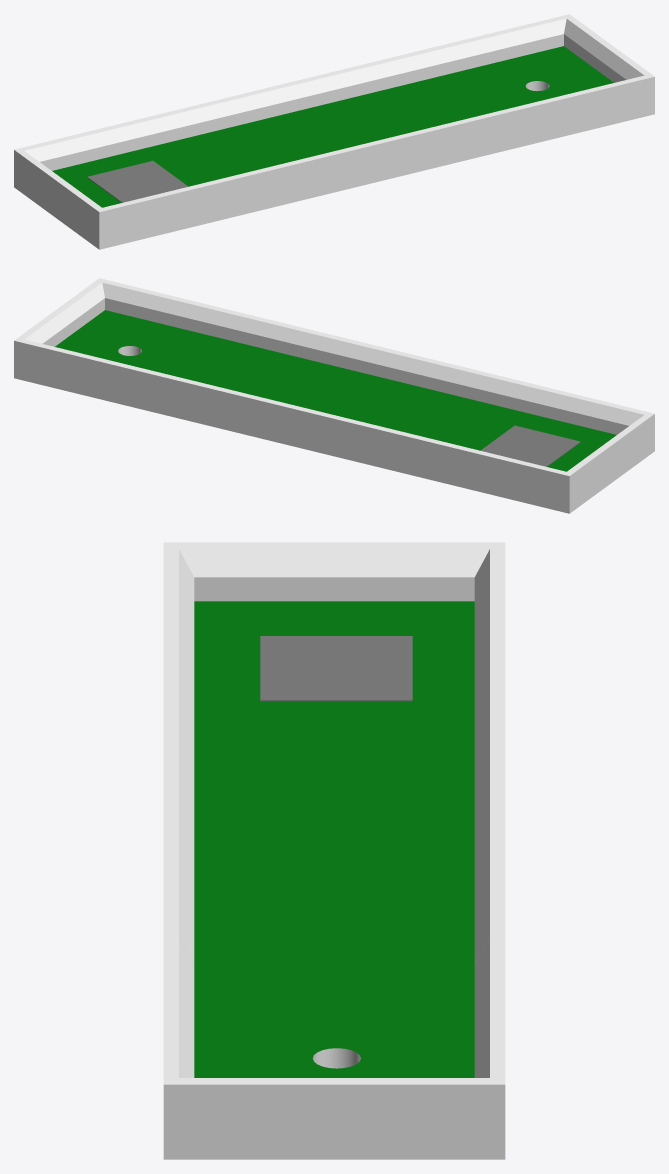
File: Level0Model.obj
3 views of the same model, one above another, from view 1: azimuth 30°, elevation 25°; view 2: azimuth 150°, elevation 25°; view 3: azimuth 270°, elevation 25° (orthographic). The views are drawn at different scales.
Visible parts, largest first — view 1: Level_Models3:pCube159; view 2: Level_Models3:pCube159; view 3: Level_Models3:pCube159.
Part boxes in pixels (x1,y1,x2,y2): Level_Models3:pCube159: [14, 14, 654, 249]; Level_Models3:pCube159: [14, 278, 654, 513]; Level_Models3:pCube159: [163, 542, 505, 1159].
Bounding box in the file's own units: 8.41 × 0.5441 × 2.24.
3 materials, 2 textured.
